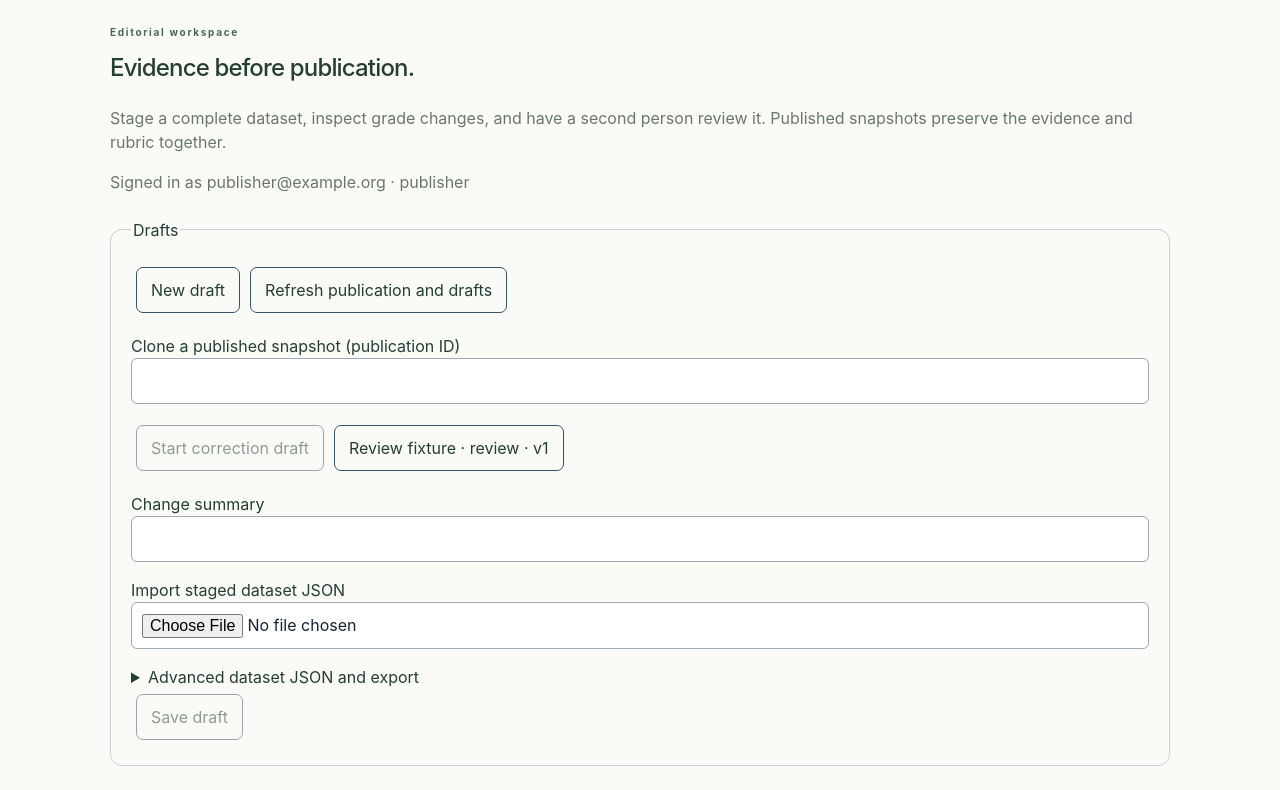
Test: Staff editing workflow › blocks publishing after editing an approved rubric
Click the button "Review fixture · review · v1" at (449, 448), box left=334, top=425, right=564, bottom=471
(page scrolled)
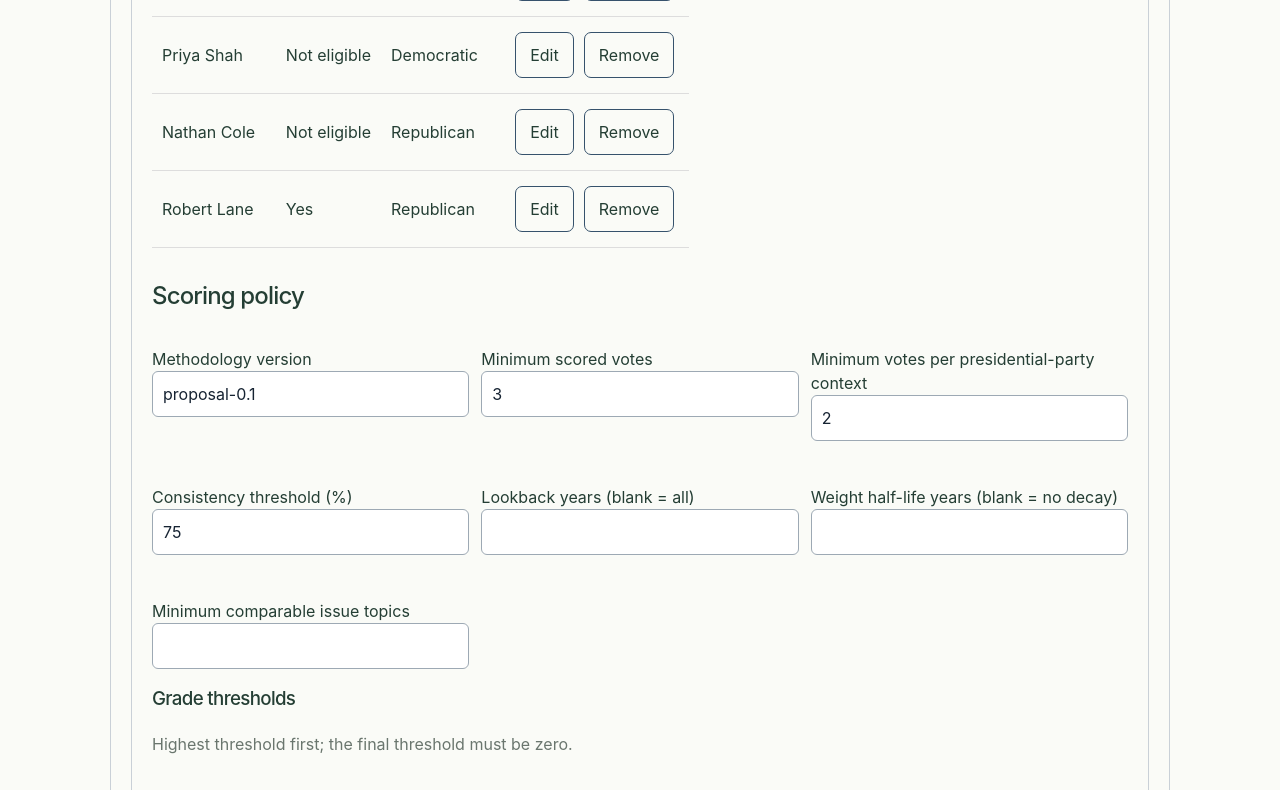
Replace the text in the number field labelled "Minimum scored votes" with "40" at (640, 394), box left=481, top=371, right=799, bottom=417
(page scrolled)
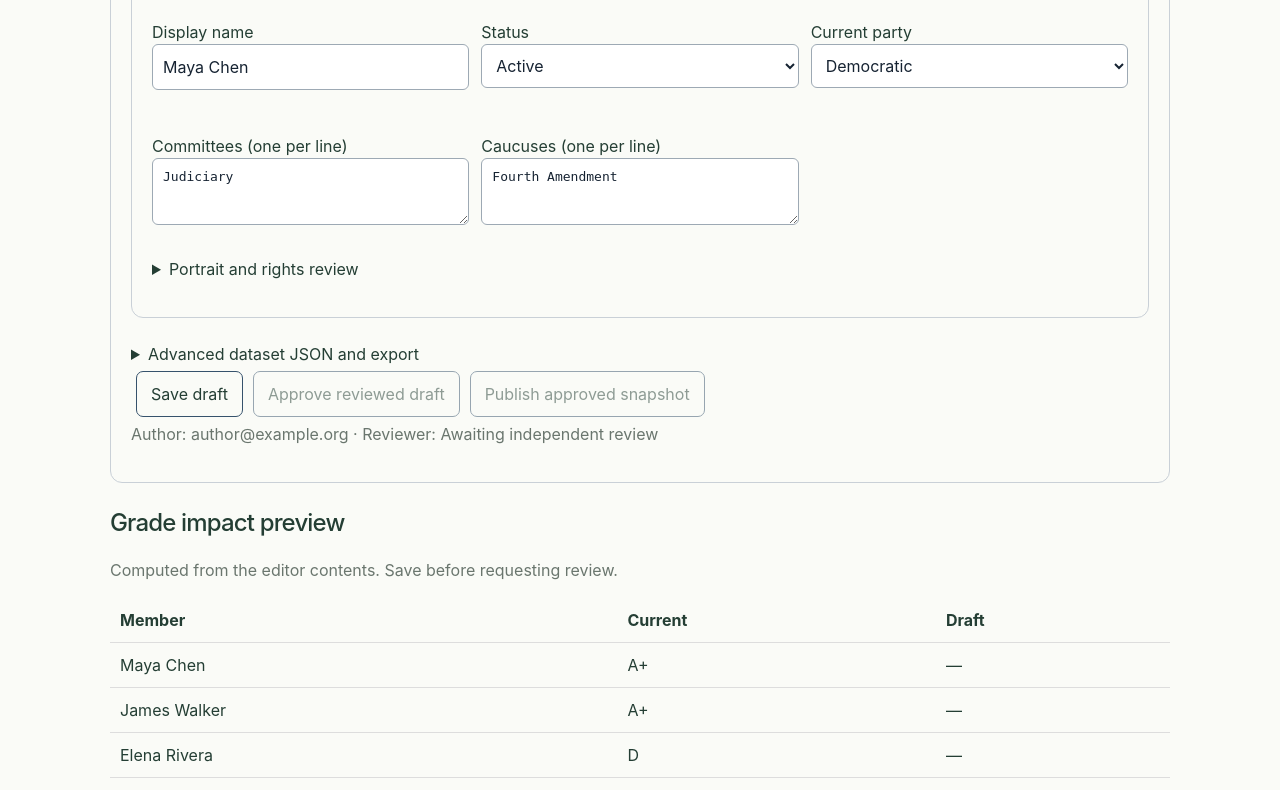
Expected: the button "Publish approved snapshot" is disabled, left=470, top=371, right=705, bottom=417
